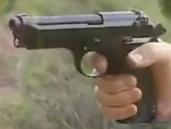gun: (1, 1, 171, 129)
